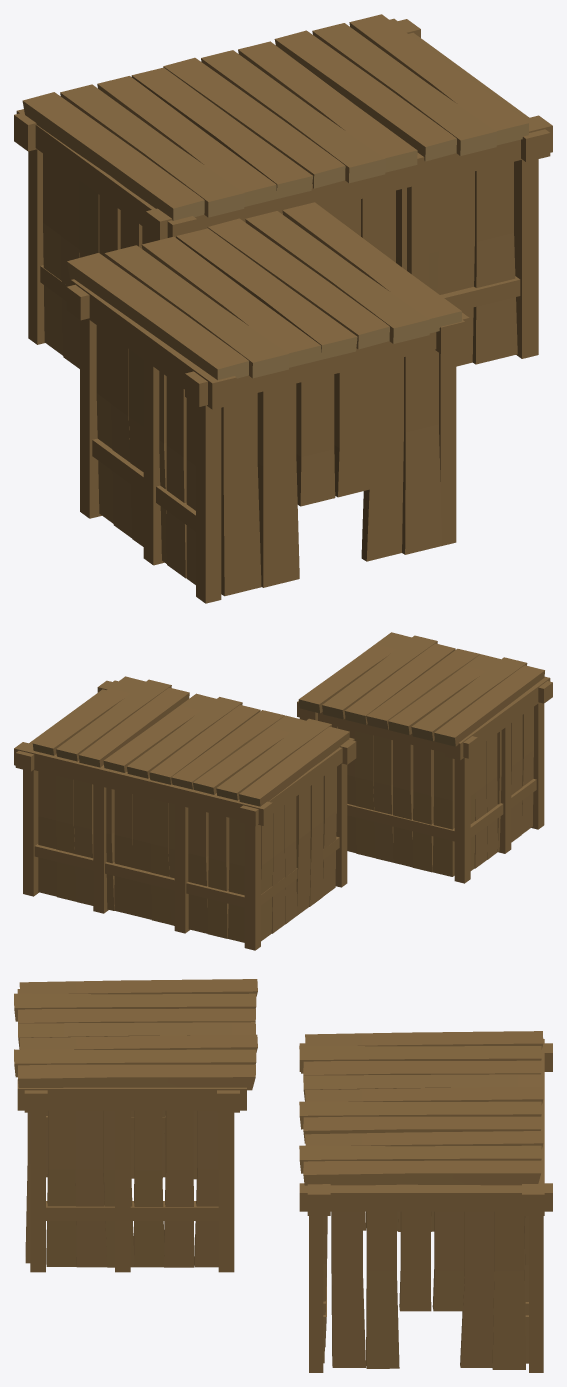
The model's file is Huts.glb.
The picture shows the model from 3 angles, top to bottom: view 1: azimuth 30°, elevation 25°; view 2: azimuth 150°, elevation 25°; view 3: azimuth 270°, elevation 25°; orthographic projection. The views are drawn at different scales.
Visible parts, largest first — view 1: Huts; view 2: Huts; view 3: Huts.
Part boxes in pixels (x1,y1,x2,y2): Huts: [14, 14, 552, 603]; Huts: [14, 632, 552, 950]; Huts: [14, 979, 552, 1372].
Bounding box in the file's own units: 1.32 × 0.5741 × 1.44.
